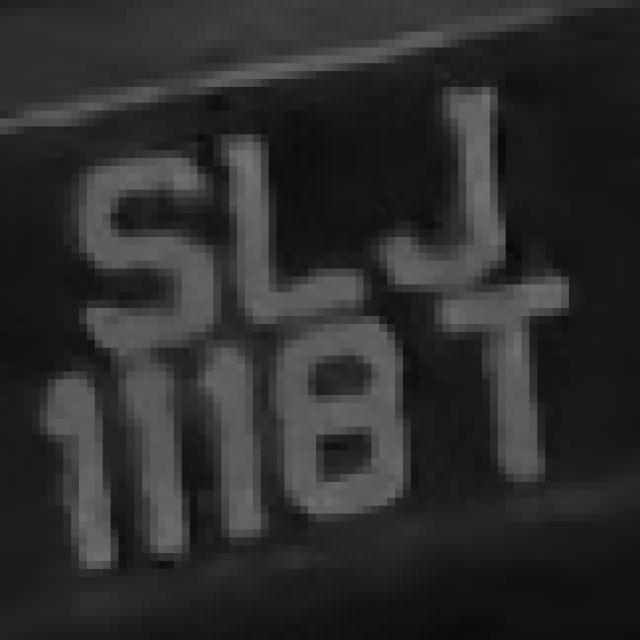1: (24, 324, 126, 616), (118, 340, 205, 577), (198, 340, 268, 584)
6: (284, 316, 403, 506)
J: (340, 71, 506, 300)
L: (213, 102, 387, 356)
S: (56, 118, 206, 372)
T: (403, 261, 593, 498)
